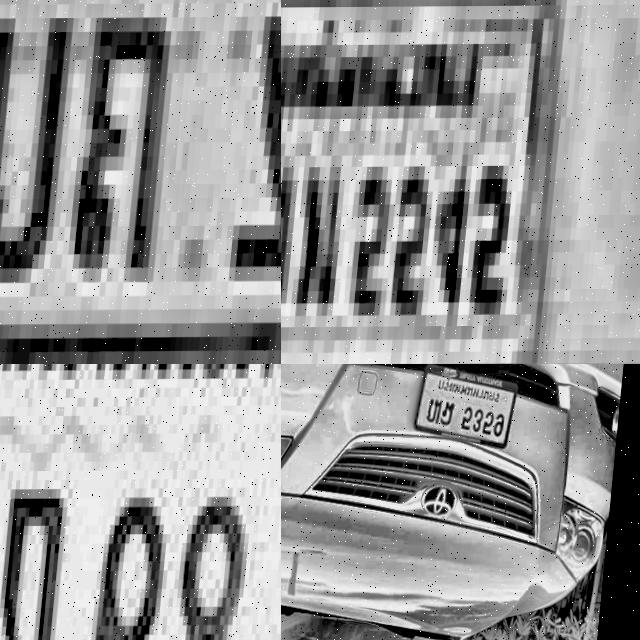license-plate: (281, 0, 579, 364), (0, 0, 281, 364), (0, 364, 281, 640), (417, 367, 524, 450)
